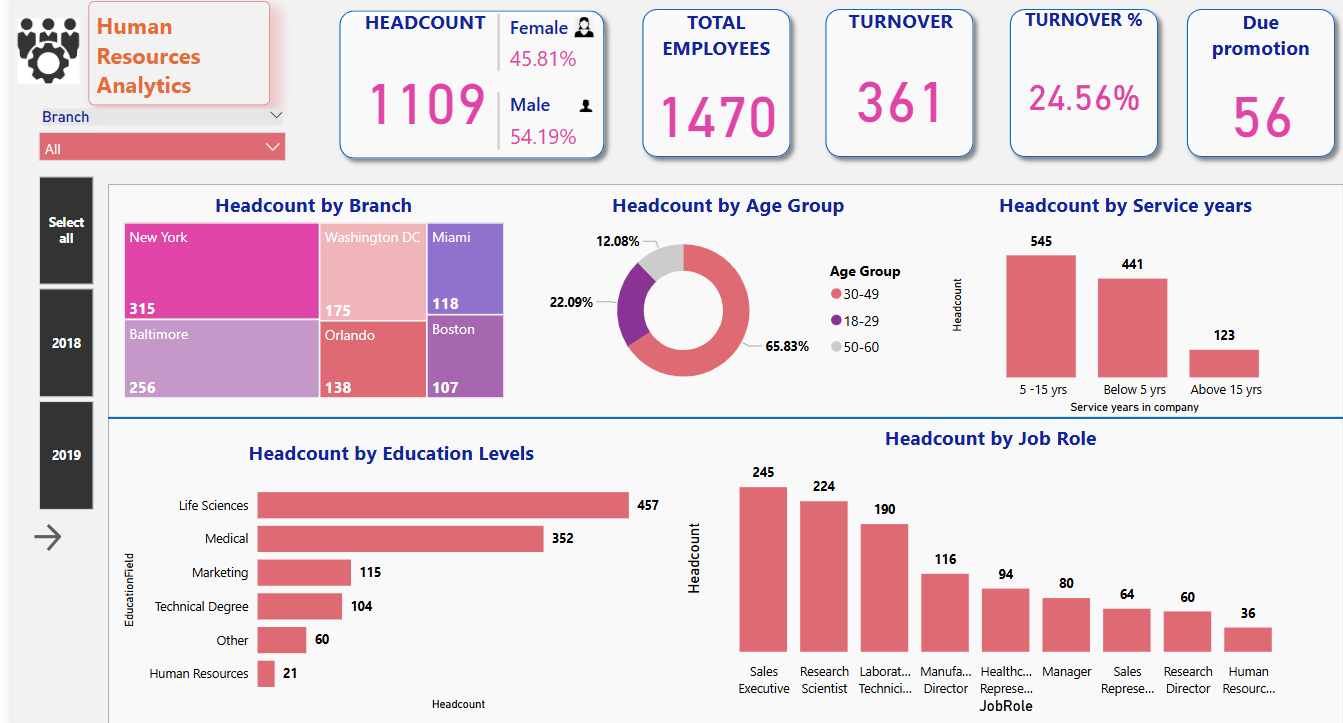

This screenshot's page, from the dashboard's own definition file:
{"tool":"powerbi","page":{"name":"Home","canvas":[1280,720],"ordinal":0},"visuals":[{"type":"shape","box":[305.1,11.3,272,160],"z":0},{"type":"card","title":"HEADCOUNT","fields":{"Values":["Measure_table.Headcount"]},"box":[332.8,18.6,128,144],"z":1000},{"type":"shape","box":[771.4,9.9,160,160],"z":2000},{"type":"shape","box":[947.6,9.9,160,160],"z":3000},{"type":"shape","box":[1116.8,9.5,160,160],"z":4000},{"type":"shape","box":[594.7,9.9,160,160],"z":5000},{"type":"multiRowCard","fields":{"Values":["dEmployee_data.gender","Measure_table.Headcount"]},"box":[460.8,18.6,91.6,162.9],"z":6000},{"type":"card","title":"TOTAL EMPLOYEES","fields":{"Values":["Measure_table.v3 Total Emp count"]},"box":[610.7,18.6,128,144],"z":7000},{"type":"card","title":"TURNOVER","fields":{"Values":["Measure_table.v3 Leavers count"]},"box":[787.4,17.2,128,144],"z":8000},{"type":"card","title":"TURNOVER %","fields":{"Values":["Measure_table.% turnover"]},"box":[963.6,17.2,128,144],"z":9000},{"type":"card","title":"Due promotion","fields":{"Values":["Measure_table.Promotion due"]},"box":[1132.8,18.2,128,144],"z":10000},{"type":"shape","box":[92.1,187.1,1184.9,521.6],"z":11000},{"type":"treemap","title":"Headcount by Branch","fields":{"Group":["dEmployee_data.Branch"],"Values":["Measure_table.Headcount"]},"box":[102,194.2,374.2,202.7],"z":12000},{"type":"donutChart","title":"Headcount by Age Group","fields":{"Category":["dHR_Analytics.Age Group"],"Y":["Measure_table.Headcount"]},"box":[497.5,194.2,378.4,202.7],"z":13000},{"type":"columnChart","title":"Headcount by Service years","fields":{"Y":["Measure_table.Headcount"],"Category":["dHR_Analytics.Service years in company"]},"box":[895.7,194.2,343,216.9],"z":14000},{"type":"barChart","title":"Headcount by Education Levels","fields":{"Y":["Measure_table.Headcount"],"Category":["dEducation.EducationField"]},"box":[102,430.9,523,265],"z":15000},{"type":"columnChart","title":"Headcount by Job Role","fields":{"Category":["dHR_Analytics.JobRole"],"Y":["Measure_table.Headcount"]},"box":[640.6,416.7,596.7,282],"z":16000},{"type":"shape","box":[92.1,405.4,1184.9,11.3],"z":17000},{"type":"textbox","box":[74,12,174,100],"z":18000},{"type":"slicer","fields":{"Values":["dEmployee_data.Branch"]},"box":[15.6,109.1,256.5,63.8],"z":19000},{"type":"image","box":[0,2.8,69.4,113.4],"z":20000},{"type":"image","box":[532.9,21.3,29.8,29.8],"z":21000},{"type":"image","box":[535.7,96.4,26.9,29.8],"z":22000},{"type":"actionButton","box":[15.6,506,35.4,39.7],"z":32000},{"type":"slicer","fields":{"Values":["dcalendar.Year"]},"box":[0,172.6,102.1,333.6],"z":33000}]}

Visuals, with their boxes on the page's 1280x720 design canvas (x1, y1, x2, y2). These are canvas units, not pixel positions in the 1343x723 screenshot, which may show the page scaled, cropped or inside an application window:
shape: <box>305,11,577,171</box>
"HEADCOUNT" card: <box>333,19,461,163</box>
shape: <box>771,10,931,170</box>
shape: <box>948,10,1108,170</box>
shape: <box>1117,10,1277,170</box>
shape: <box>595,10,755,170</box>
multiRowCard - dEmployee_data.gender x Measure_table.Headcount: <box>461,19,552,182</box>
"TOTAL EMPLOYEES" card: <box>611,19,739,163</box>
"TURNOVER" card: <box>787,17,915,161</box>
"TURNOVER %" card: <box>964,17,1092,161</box>
"Due promotion" card: <box>1133,18,1261,162</box>
shape: <box>92,187,1277,709</box>
"Headcount by Branch" treemap: <box>102,194,476,397</box>
"Headcount by Age Group" donutChart: <box>498,194,876,397</box>
"Headcount by Service years" columnChart: <box>896,194,1239,411</box>
"Headcount by Education Levels" barChart: <box>102,431,625,696</box>
"Headcount by Job Role" columnChart: <box>641,417,1237,699</box>
shape: <box>92,405,1277,417</box>
textbox: <box>74,12,248,112</box>
slicer - dEmployee_data.Branch: <box>16,109,272,173</box>
image: <box>0,3,69,116</box>
image: <box>533,21,563,51</box>
image: <box>536,96,563,126</box>
actionButton: <box>16,506,51,546</box>
slicer - dcalendar.Year: <box>0,173,102,506</box>
